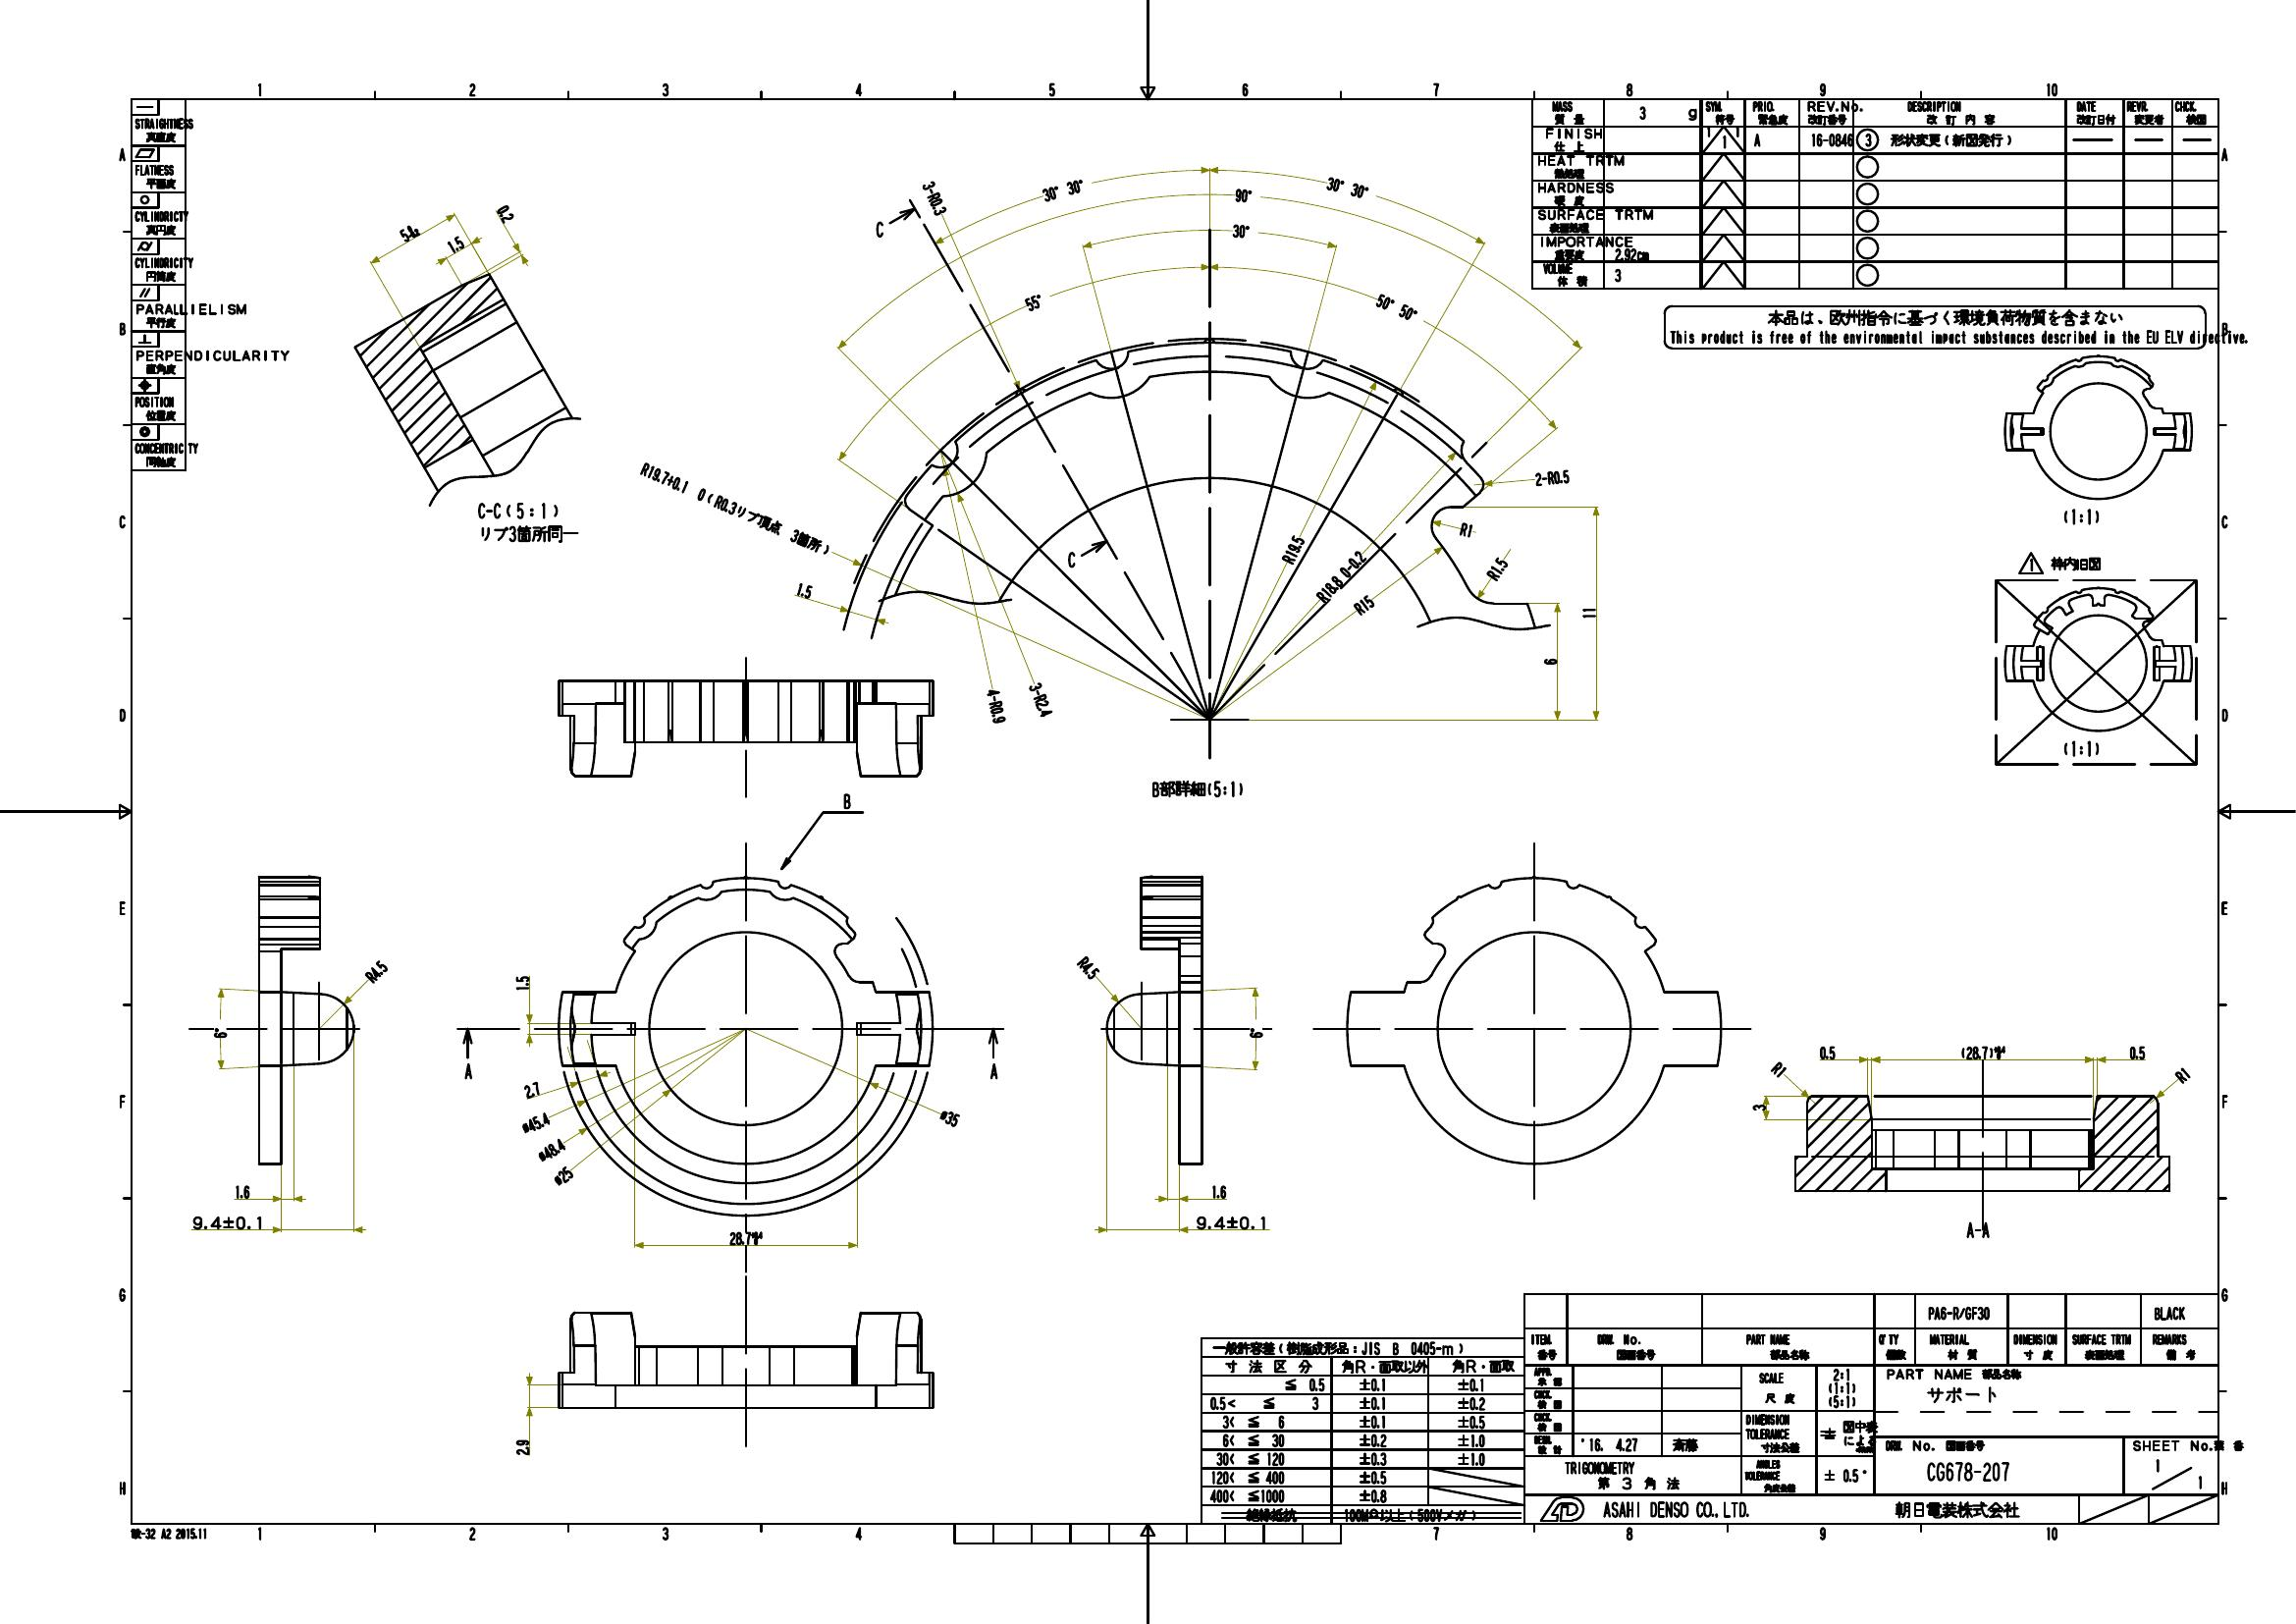anntotation_text: (1664, 304, 2249, 350), (1149, 779, 1247, 801), (2015, 550, 2105, 575), (480, 522, 580, 543), (473, 499, 560, 522), (130, 1526, 207, 1541), (2061, 504, 2103, 527), (2062, 738, 2099, 759), (1966, 1218, 1989, 1243), (986, 1060, 1000, 1083), (462, 1060, 474, 1083), (840, 793, 854, 810), (1066, 550, 1075, 569), (875, 221, 884, 237)
dimension_text: (631, 499, 840, 518), (1307, 566, 1377, 587), (190, 1213, 264, 1232), (1193, 1213, 1270, 1230), (1957, 1044, 2008, 1060), (1374, 297, 1418, 315), (1325, 179, 1370, 195), (1040, 181, 1086, 197), (724, 1229, 766, 1244), (913, 190, 956, 206), (975, 700, 1017, 715), (1534, 469, 1570, 487), (1022, 691, 1058, 708), (1275, 541, 1309, 559), (532, 1142, 566, 1158), (1073, 958, 1103, 975), (938, 1107, 963, 1128), (1351, 596, 1375, 615), (518, 1116, 550, 1130), (550, 1167, 574, 1185), (397, 223, 420, 241), (1231, 221, 1251, 241), (1024, 292, 1043, 311), (792, 582, 815, 598), (364, 965, 388, 979), (1484, 561, 1509, 575), (513, 974, 531, 993), (1818, 1042, 1836, 1062), (1233, 186, 1253, 204), (232, 1183, 249, 1200), (1769, 1060, 1787, 1077), (446, 236, 464, 253), (497, 204, 515, 221), (213, 1025, 230, 1040), (1210, 1183, 1226, 1200), (1247, 1023, 1263, 1040), (1456, 522, 1474, 538), (515, 1436, 529, 1455), (1579, 606, 1599, 620), (2175, 1067, 2191, 1083), (2127, 1044, 2145, 1058), (523, 1083, 539, 1097), (1542, 656, 1556, 666), (1750, 1102, 1765, 1111)
object: (838, 336, 1551, 631), (553, 875, 936, 1220), (1346, 875, 1723, 1165), (553, 1309, 936, 1411), (557, 677, 936, 779), (1794, 1093, 2173, 1193), (372, 295, 555, 485), (255, 875, 358, 1167), (1105, 875, 1205, 1167), (2003, 353, 2192, 501), (2003, 585, 2192, 731)
title_block: (1200, 1290, 2220, 1526), (1530, 97, 2222, 292), (130, 97, 186, 473)
